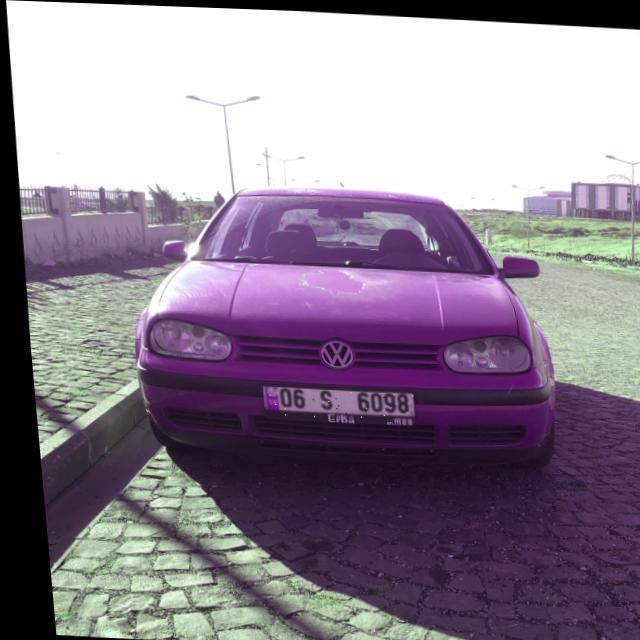license_plate: (255, 384, 407, 420)
